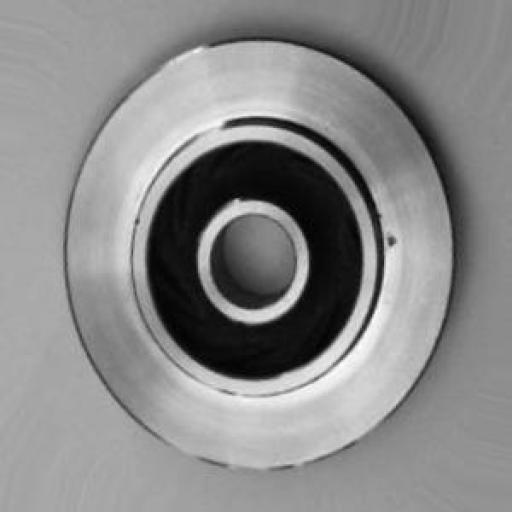defect: (375, 218, 413, 261)
